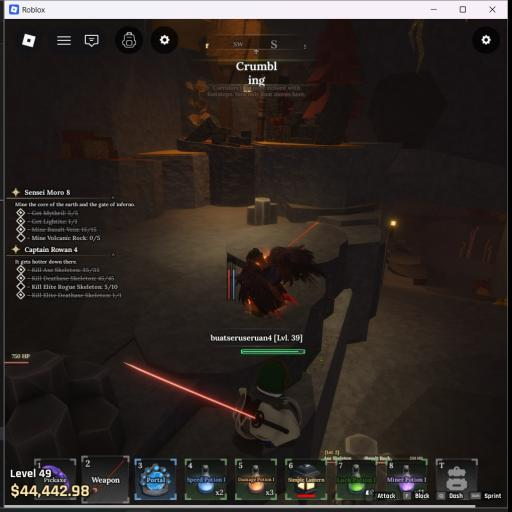player: (235, 245, 324, 318)
rock: (4, 350, 125, 469), (247, 198, 277, 225), (346, 434, 377, 458)
